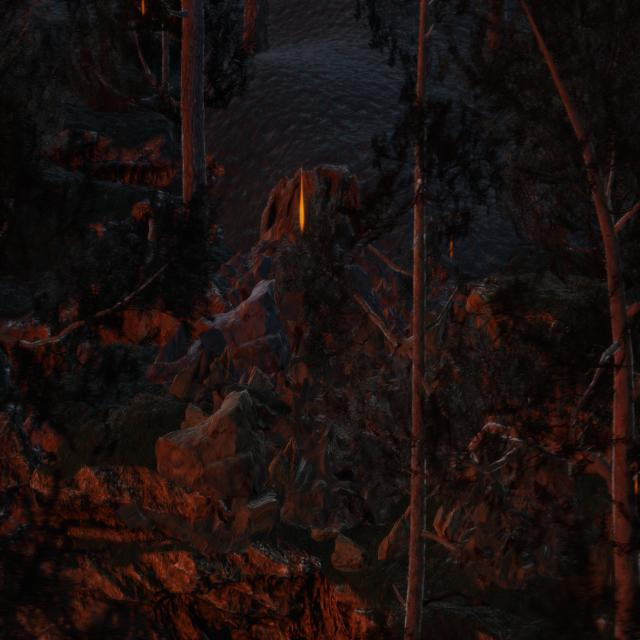Human: (424, 362, 473, 566)
